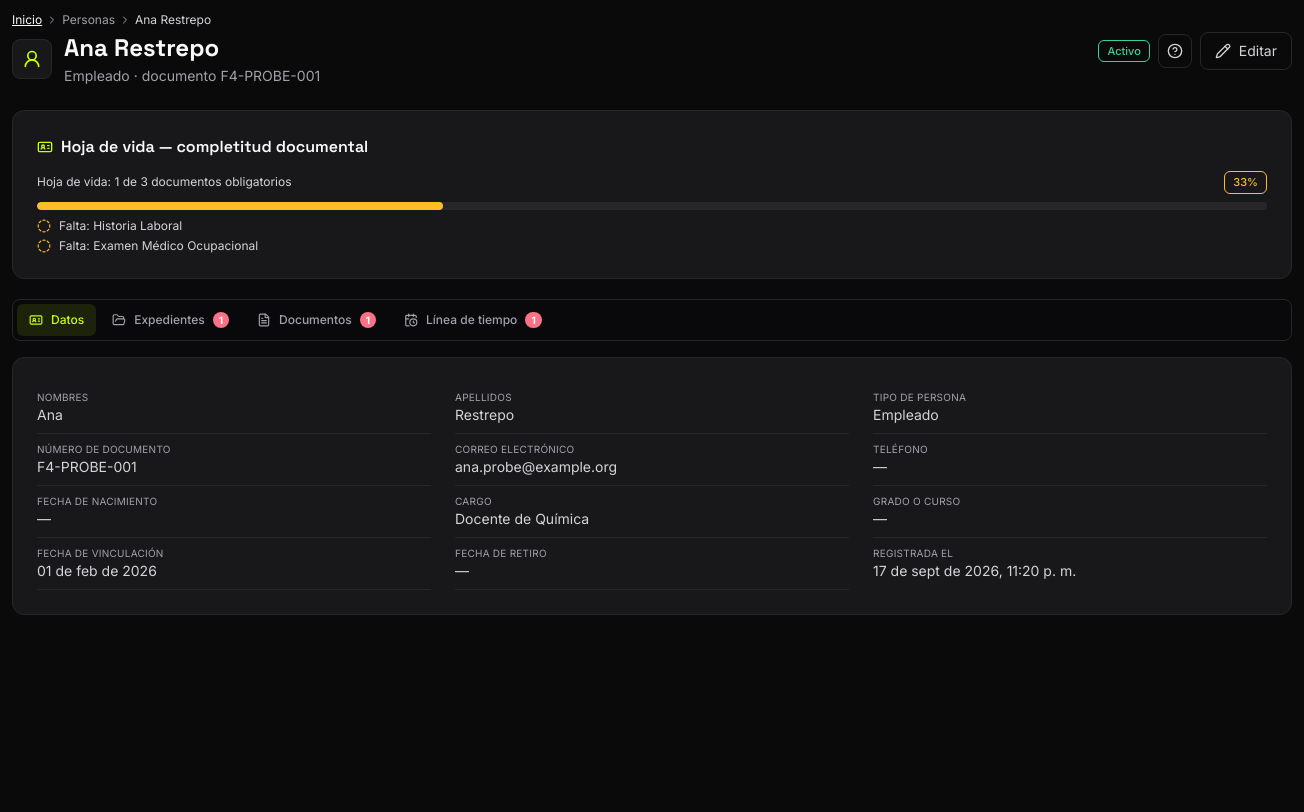
Test case: Ficha de persona › cambia a Línea de tiempo y muestra los eventos de seguimiento
Check: the element showing "Datos Expedientes 1 Documentos 1 Línea de tiempo 1" is shown, box [12,298,1292,340]
Step 1. Click the tab "Línea de tiempo 1" → (473, 320), box [392,304,554,336]
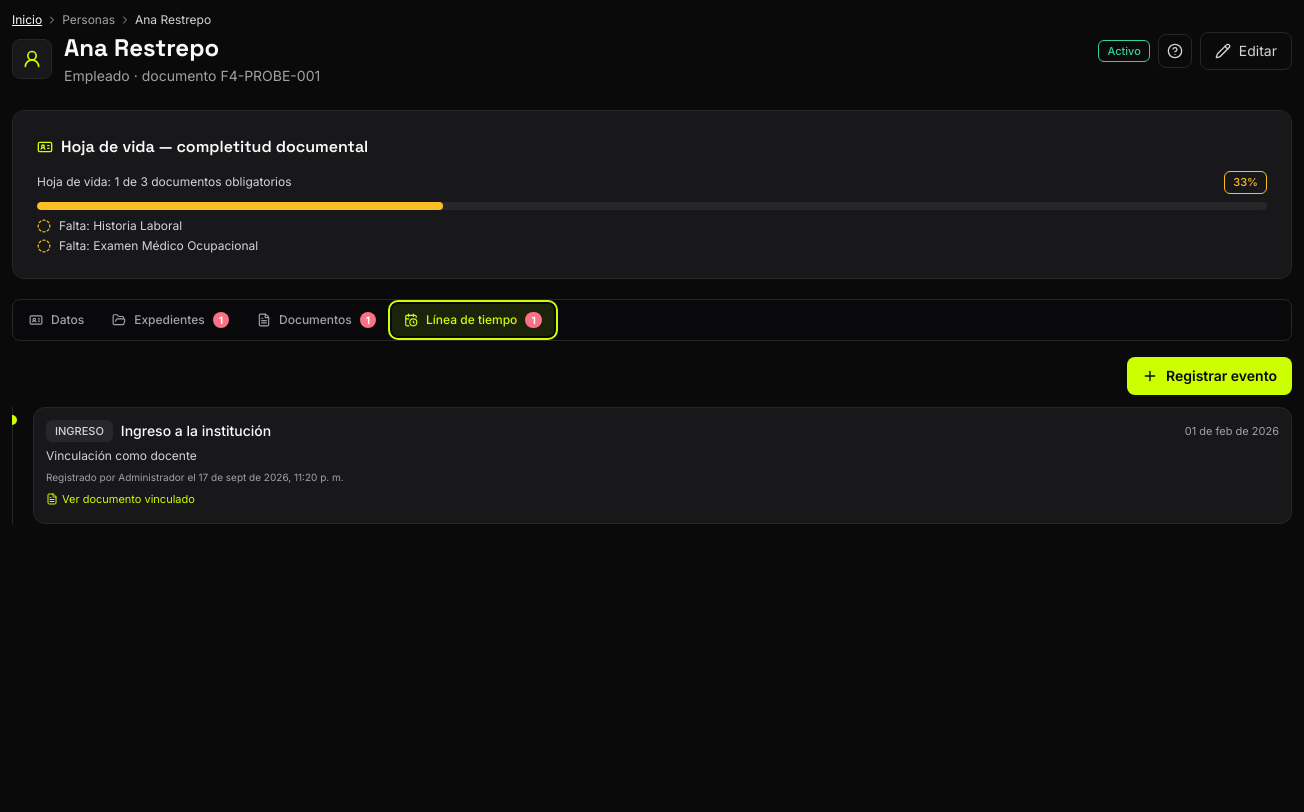
Check: the text "Ingreso a la institución" is shown, box [121,422,271,439]
Check: the text "INGRESO" is shown, box [46,420,113,442]
Check: the text "Registrado por Administrador" is shown, box [46,471,344,483]
